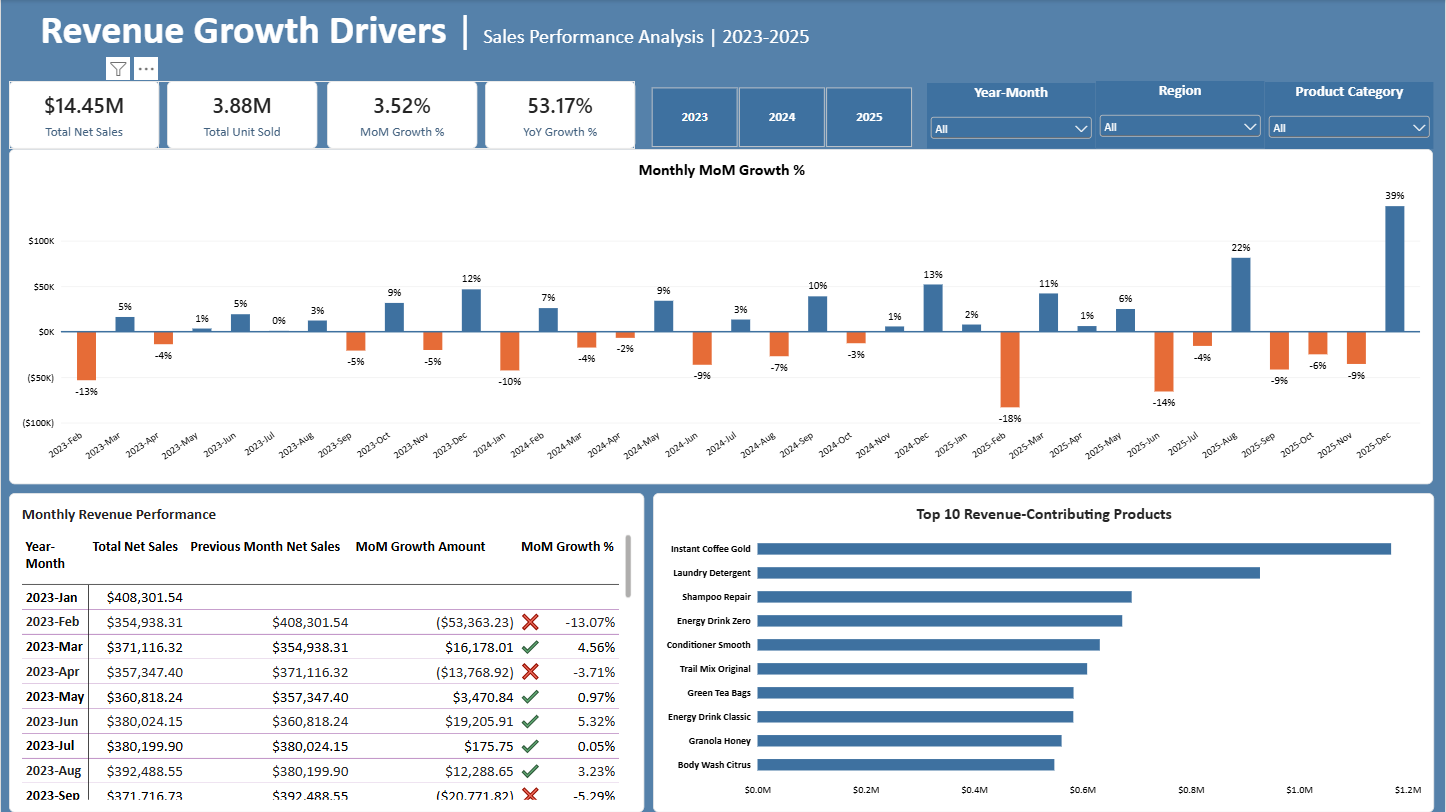

Layout of this report page (visuals, bound fields, positions):
{"tool":"powerbi","page":{"name":"Sales Revenue Growth","canvas":[1920,1080],"ordinal":1},"visuals":[{"type":"textbox","box":[10.2,7.3,1893.7,91.9],"z":0},{"type":"slicer","title":"Year-Month","fields":{"Values":["Calendar Table.Year-Month"]},"box":[1232,110.7,224.1,87],"z":0,"group":"g1"},{"type":"card","fields":{"Values":["Measure Table.Total Net Sales"]},"box":[10.2,108,200,90],"z":1000,"group":"g2"},{"type":"slicer","fields":{"Values":["Calendar Table.Year"]},"box":[844.7,114.6,386.5,83.2],"z":1000,"group":"g1"},{"type":"columnChart","title":"Monthly MoM Growth %","fields":{"Category":["Calendar Table.Year-Month"],"Y":["Measure Table.MoM Growth Amount"]},"box":[10.2,198.4,1893.7,446.4],"z":1000},{"type":"card","fields":{"Values":["Measure Table.Total Unit Sold"]},"box":[220.3,108,200,90],"z":2000,"group":"g2"},{"type":"slicer","title":"Region","fields":{"Values":["Working_01.Region"]},"box":[1456.6,108,224.1,88.6],"z":2000,"group":"g1"},{"type":"pivotTable","title":"Monthly Revenue Performance","fields":{"Rows":["Calendar Table.Year-Month"],"Values":["Measure Table.Total Net Sales","Measure Table.Previous Month Net Sales","Measure Table.MoM Growth Amount","Measure Table.MoM Growth %"]},"box":[10.2,655.1,844.7,424.6],"z":2000},{"type":"card","fields":{"Values":["Measure Table.MoM Growth %"]},"box":[433.3,108,200,90],"z":3000,"group":"g2"},{"type":"slicer","title":"Product Category","fields":{"Values":["Working_01.Product_Category"]},"box":[1681.3,109.4,224.1,88.6],"z":3000,"group":"g1"},{"type":"barChart","title":"Top 10 Revenue-Contributing Products","fields":{"Category":["Working_01.Product_Name"],"Y":["Measure Table.Total Net Sales"]},"box":[866.6,655.1,1038.8,424.6],"z":3000},{"type":"group","id":"g1","title":"Group 2","box":[844.7,108,1060.7,90.5],"z":4000},{"type":"group","id":"g2","title":"Group 1","box":[10.2,108,833.2,90],"z":5000},{"type":"card","fields":{"Values":["Measure Table.YoY Growth %"]},"box":[643.4,108,200,90],"z":5000,"group":"g2"}]}

Visuals, with their boxes in screenshot pixels (x1, y1, x2, y2), scaled from the page's 1920x1080 canvas onto the 1446x812 screenshot:
textbox: left=8, top=5, right=1434, bottom=75
"Year-Month" slicer: left=928, top=83, right=1097, bottom=149
card - Measure Table.Total Net Sales: left=8, top=81, right=158, bottom=149
slicer - Calendar Table.Year: left=636, top=86, right=927, bottom=149
"Monthly MoM Growth %" columnChart: left=8, top=149, right=1434, bottom=485
card - Measure Table.Total Unit Sold: left=166, top=81, right=317, bottom=149
"Region" slicer: left=1097, top=81, right=1266, bottom=148
"Monthly Revenue Performance" pivotTable: left=8, top=493, right=644, bottom=811
card - Measure Table.MoM Growth %: left=326, top=81, right=477, bottom=149
"Product Category" slicer: left=1266, top=82, right=1435, bottom=149
"Top 10 Revenue-Contributing Products" barChart: left=653, top=493, right=1435, bottom=811
"Group 2" group: left=636, top=81, right=1435, bottom=149
"Group 1" group: left=8, top=81, right=635, bottom=149
card - Measure Table.YoY Growth %: left=485, top=81, right=635, bottom=149
